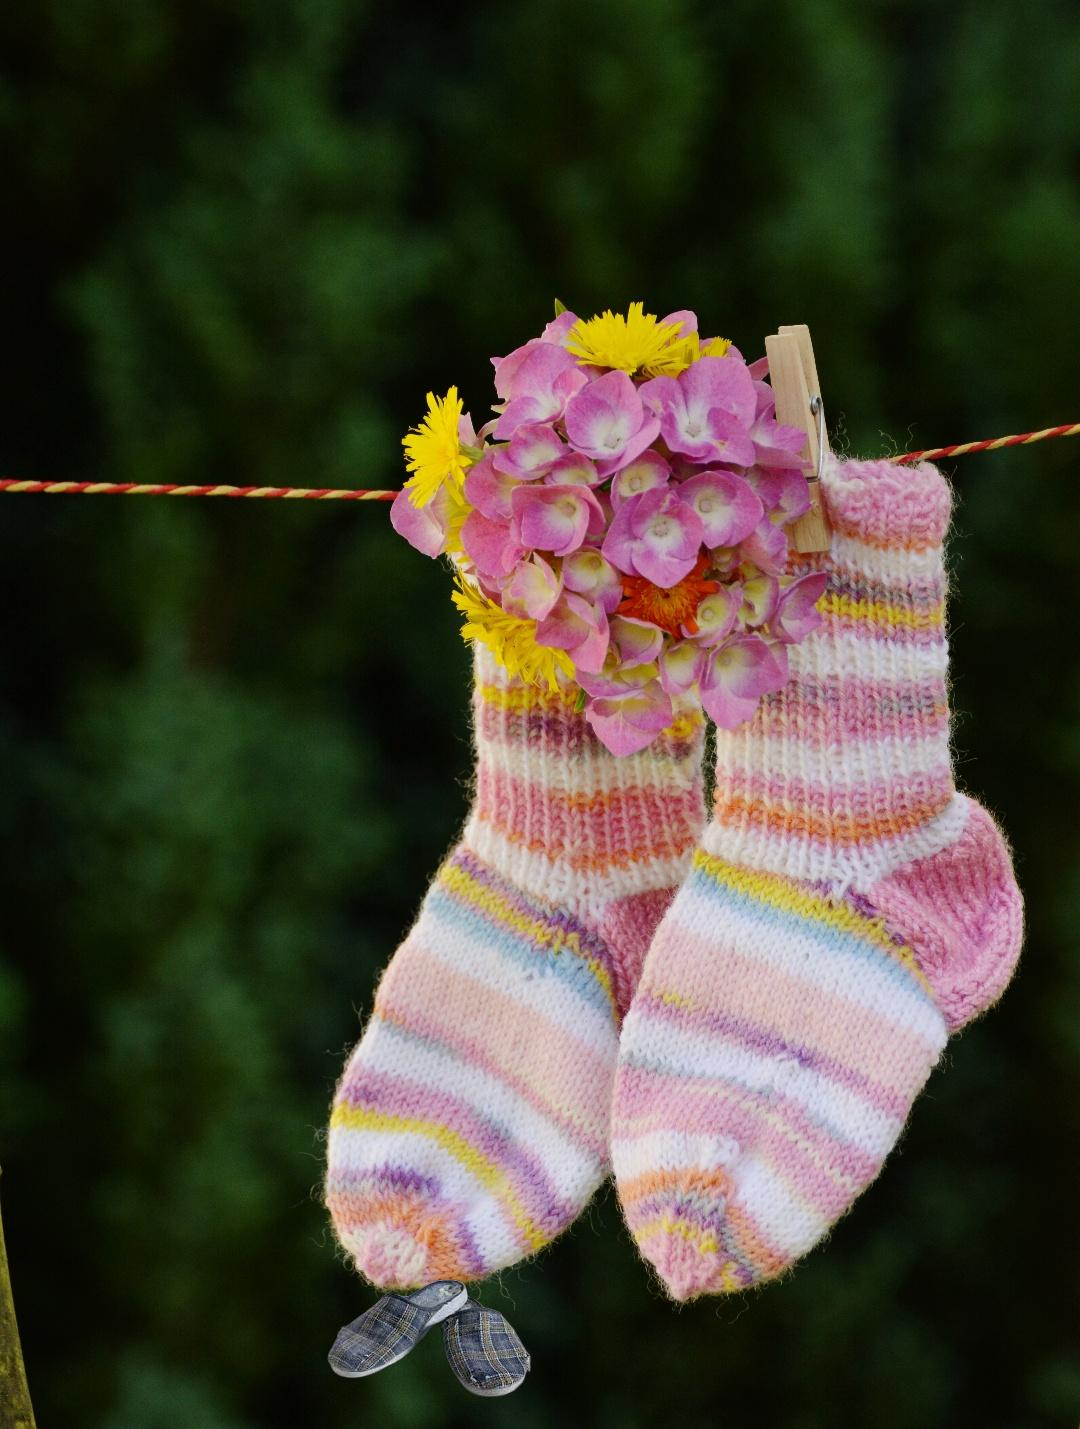shoes: (326, 1276, 534, 1400)
